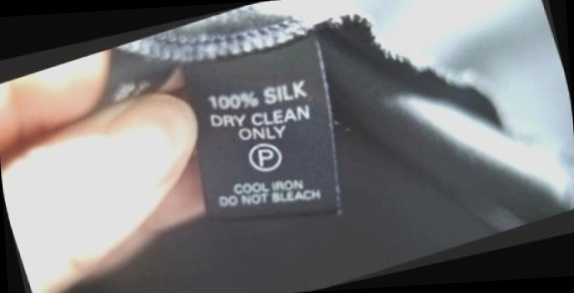dry_clean_any_solvent_except_trichloroethylene: (241, 133, 291, 180)
